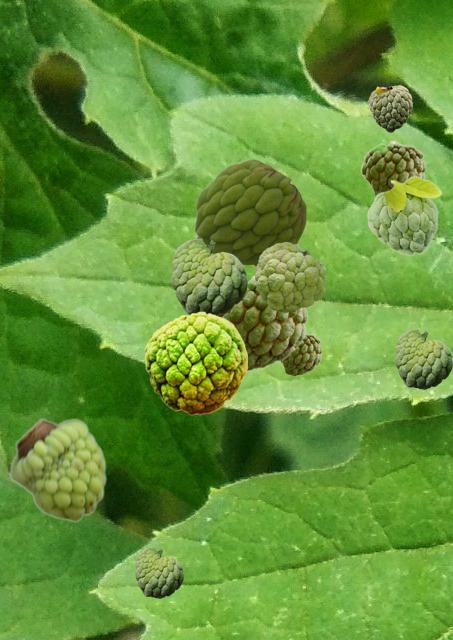atis: (194, 159, 305, 266), (144, 311, 246, 414), (9, 417, 106, 522), (219, 274, 307, 370), (366, 175, 441, 255), (171, 238, 246, 314), (255, 242, 325, 311), (360, 140, 425, 195), (395, 329, 451, 388), (135, 547, 182, 597), (368, 85, 411, 131), (280, 333, 321, 375)
